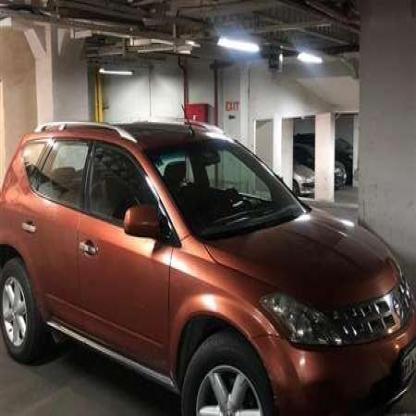Car: (0, 119, 416, 416)
